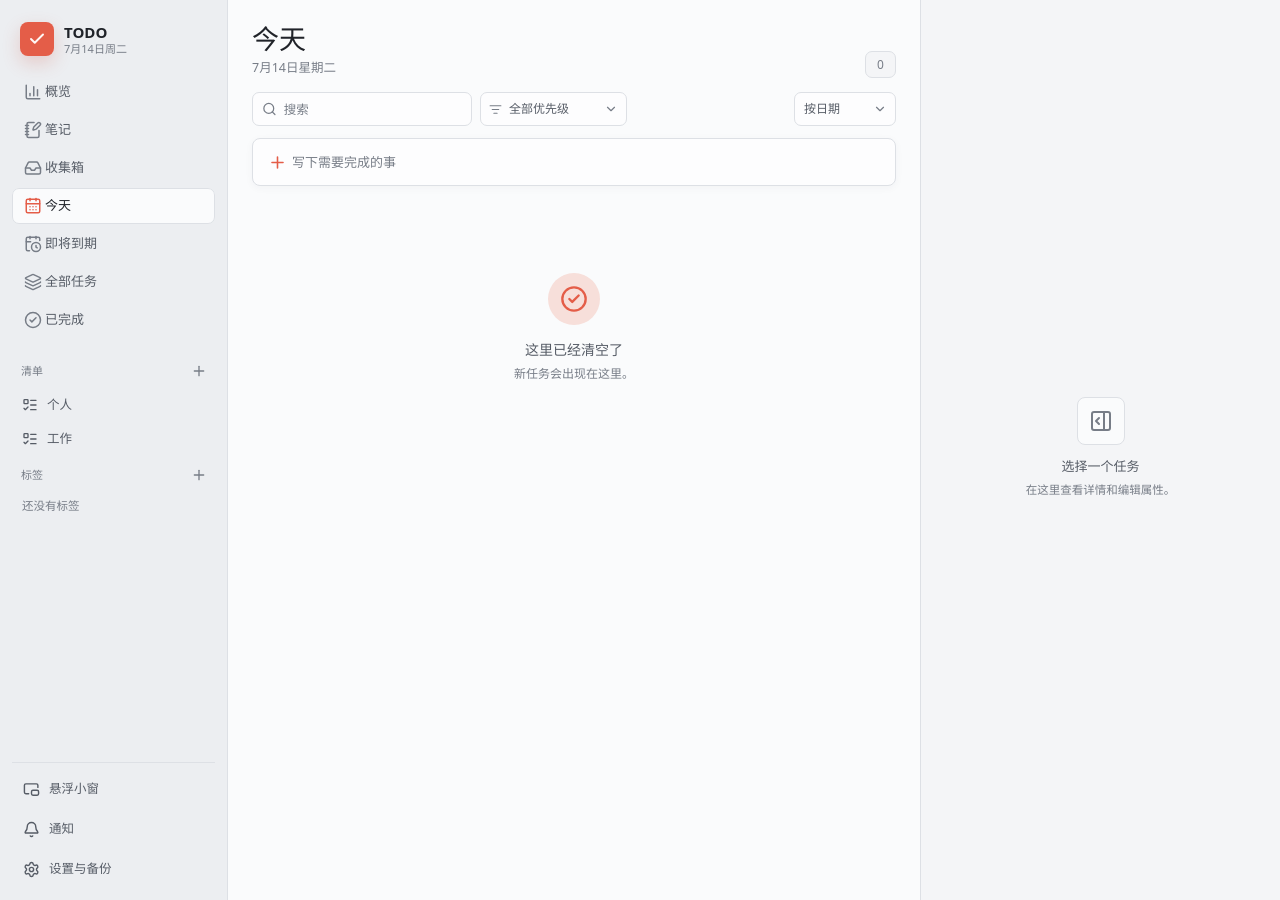
Test: TODO application › completes and restores a task with undo
Step 1. Type "完成测试" into the field named "添加任务" → {"x": 563, "y": 162}, box [292, 144, 834, 180]
Then press Enter
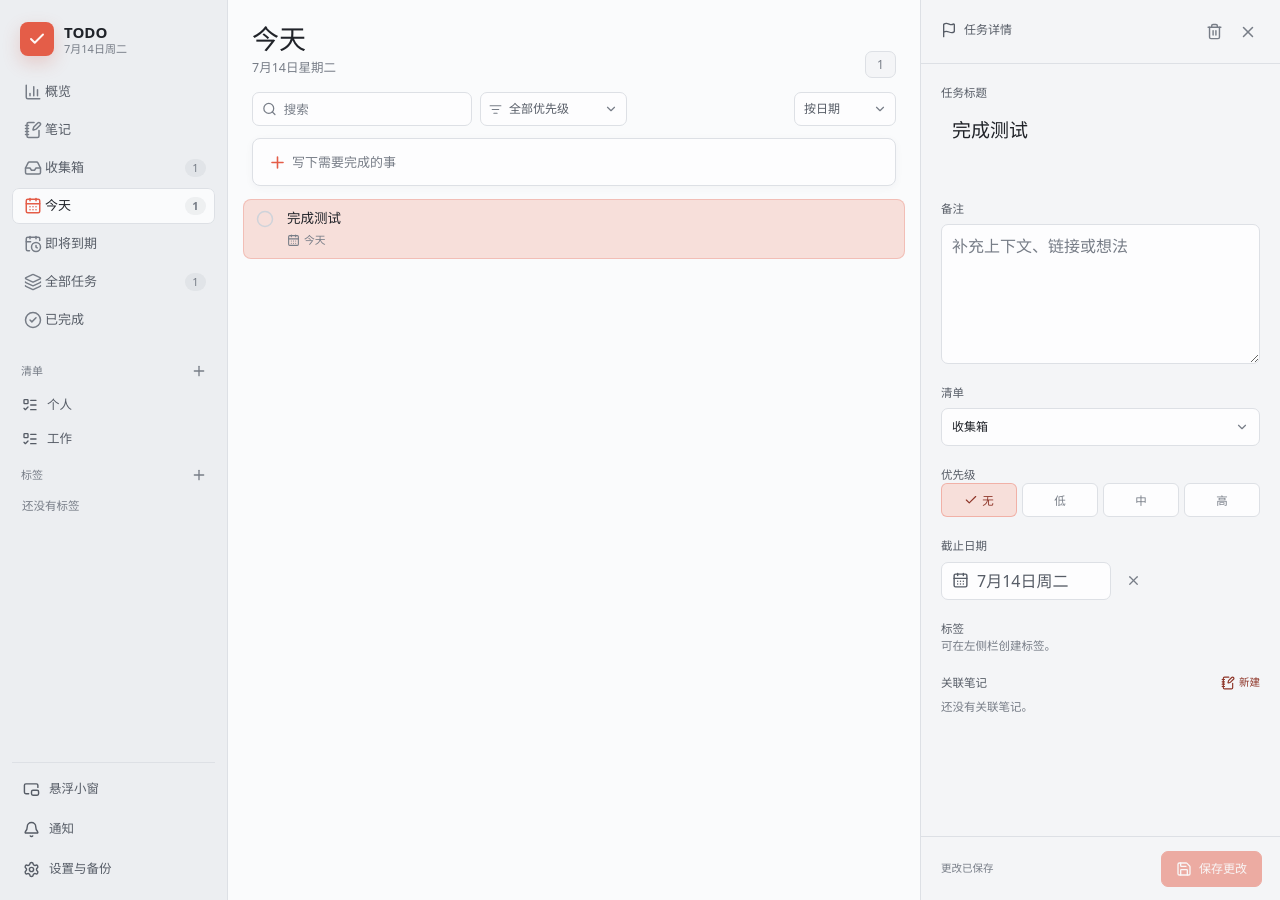
Step 2. Click the button named "标记为已完成" → {"x": 265, "y": 219}, box [249, 203, 281, 235]
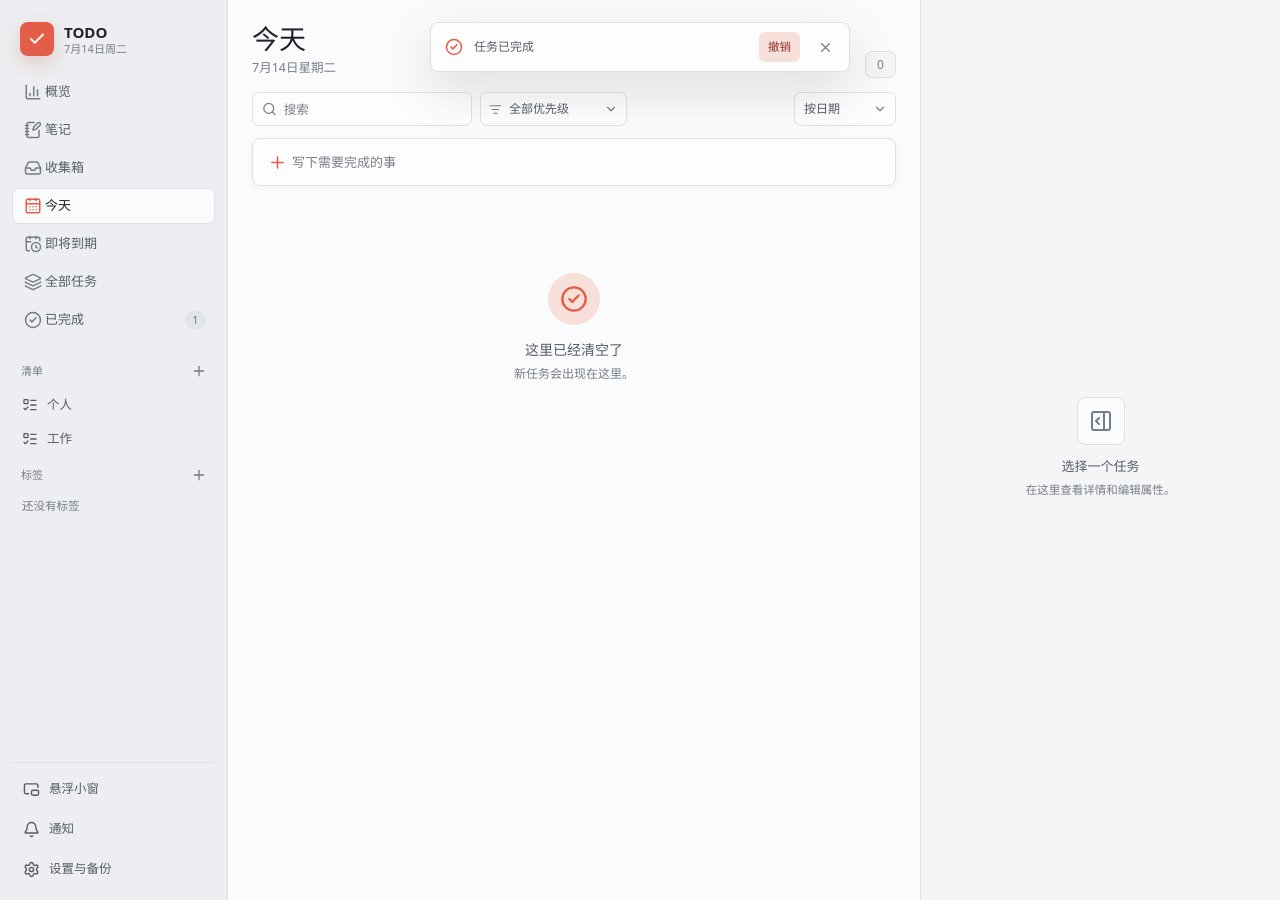
Expected: the text "任务已完成" is shown, [474, 38, 534, 55]
Expected: the text "完成测试" is not shown
Step 3. Click the button "撤销" → {"x": 780, "y": 47}, box [759, 32, 800, 62]
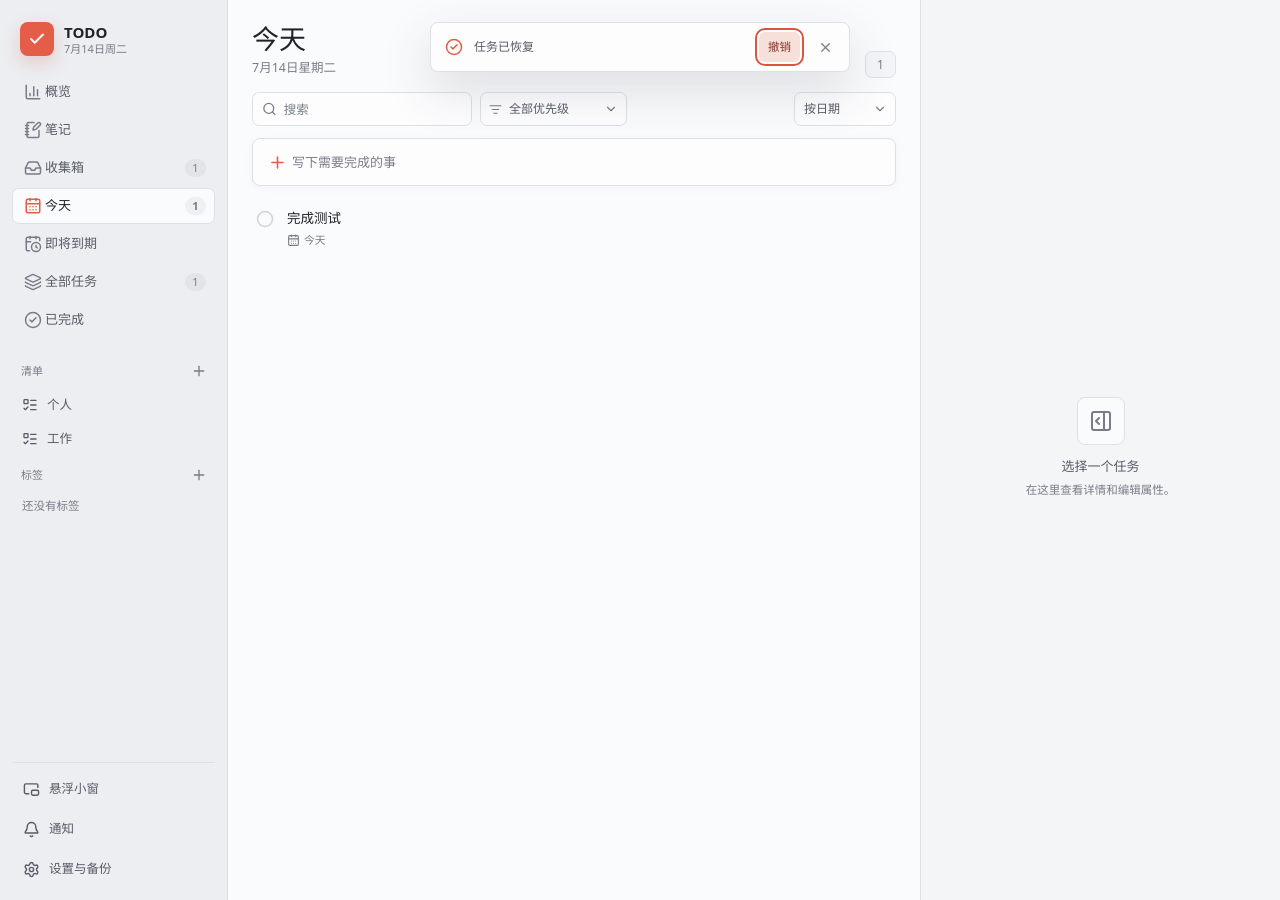
Expected: the text "完成测试" is shown, [287, 209, 341, 228]
